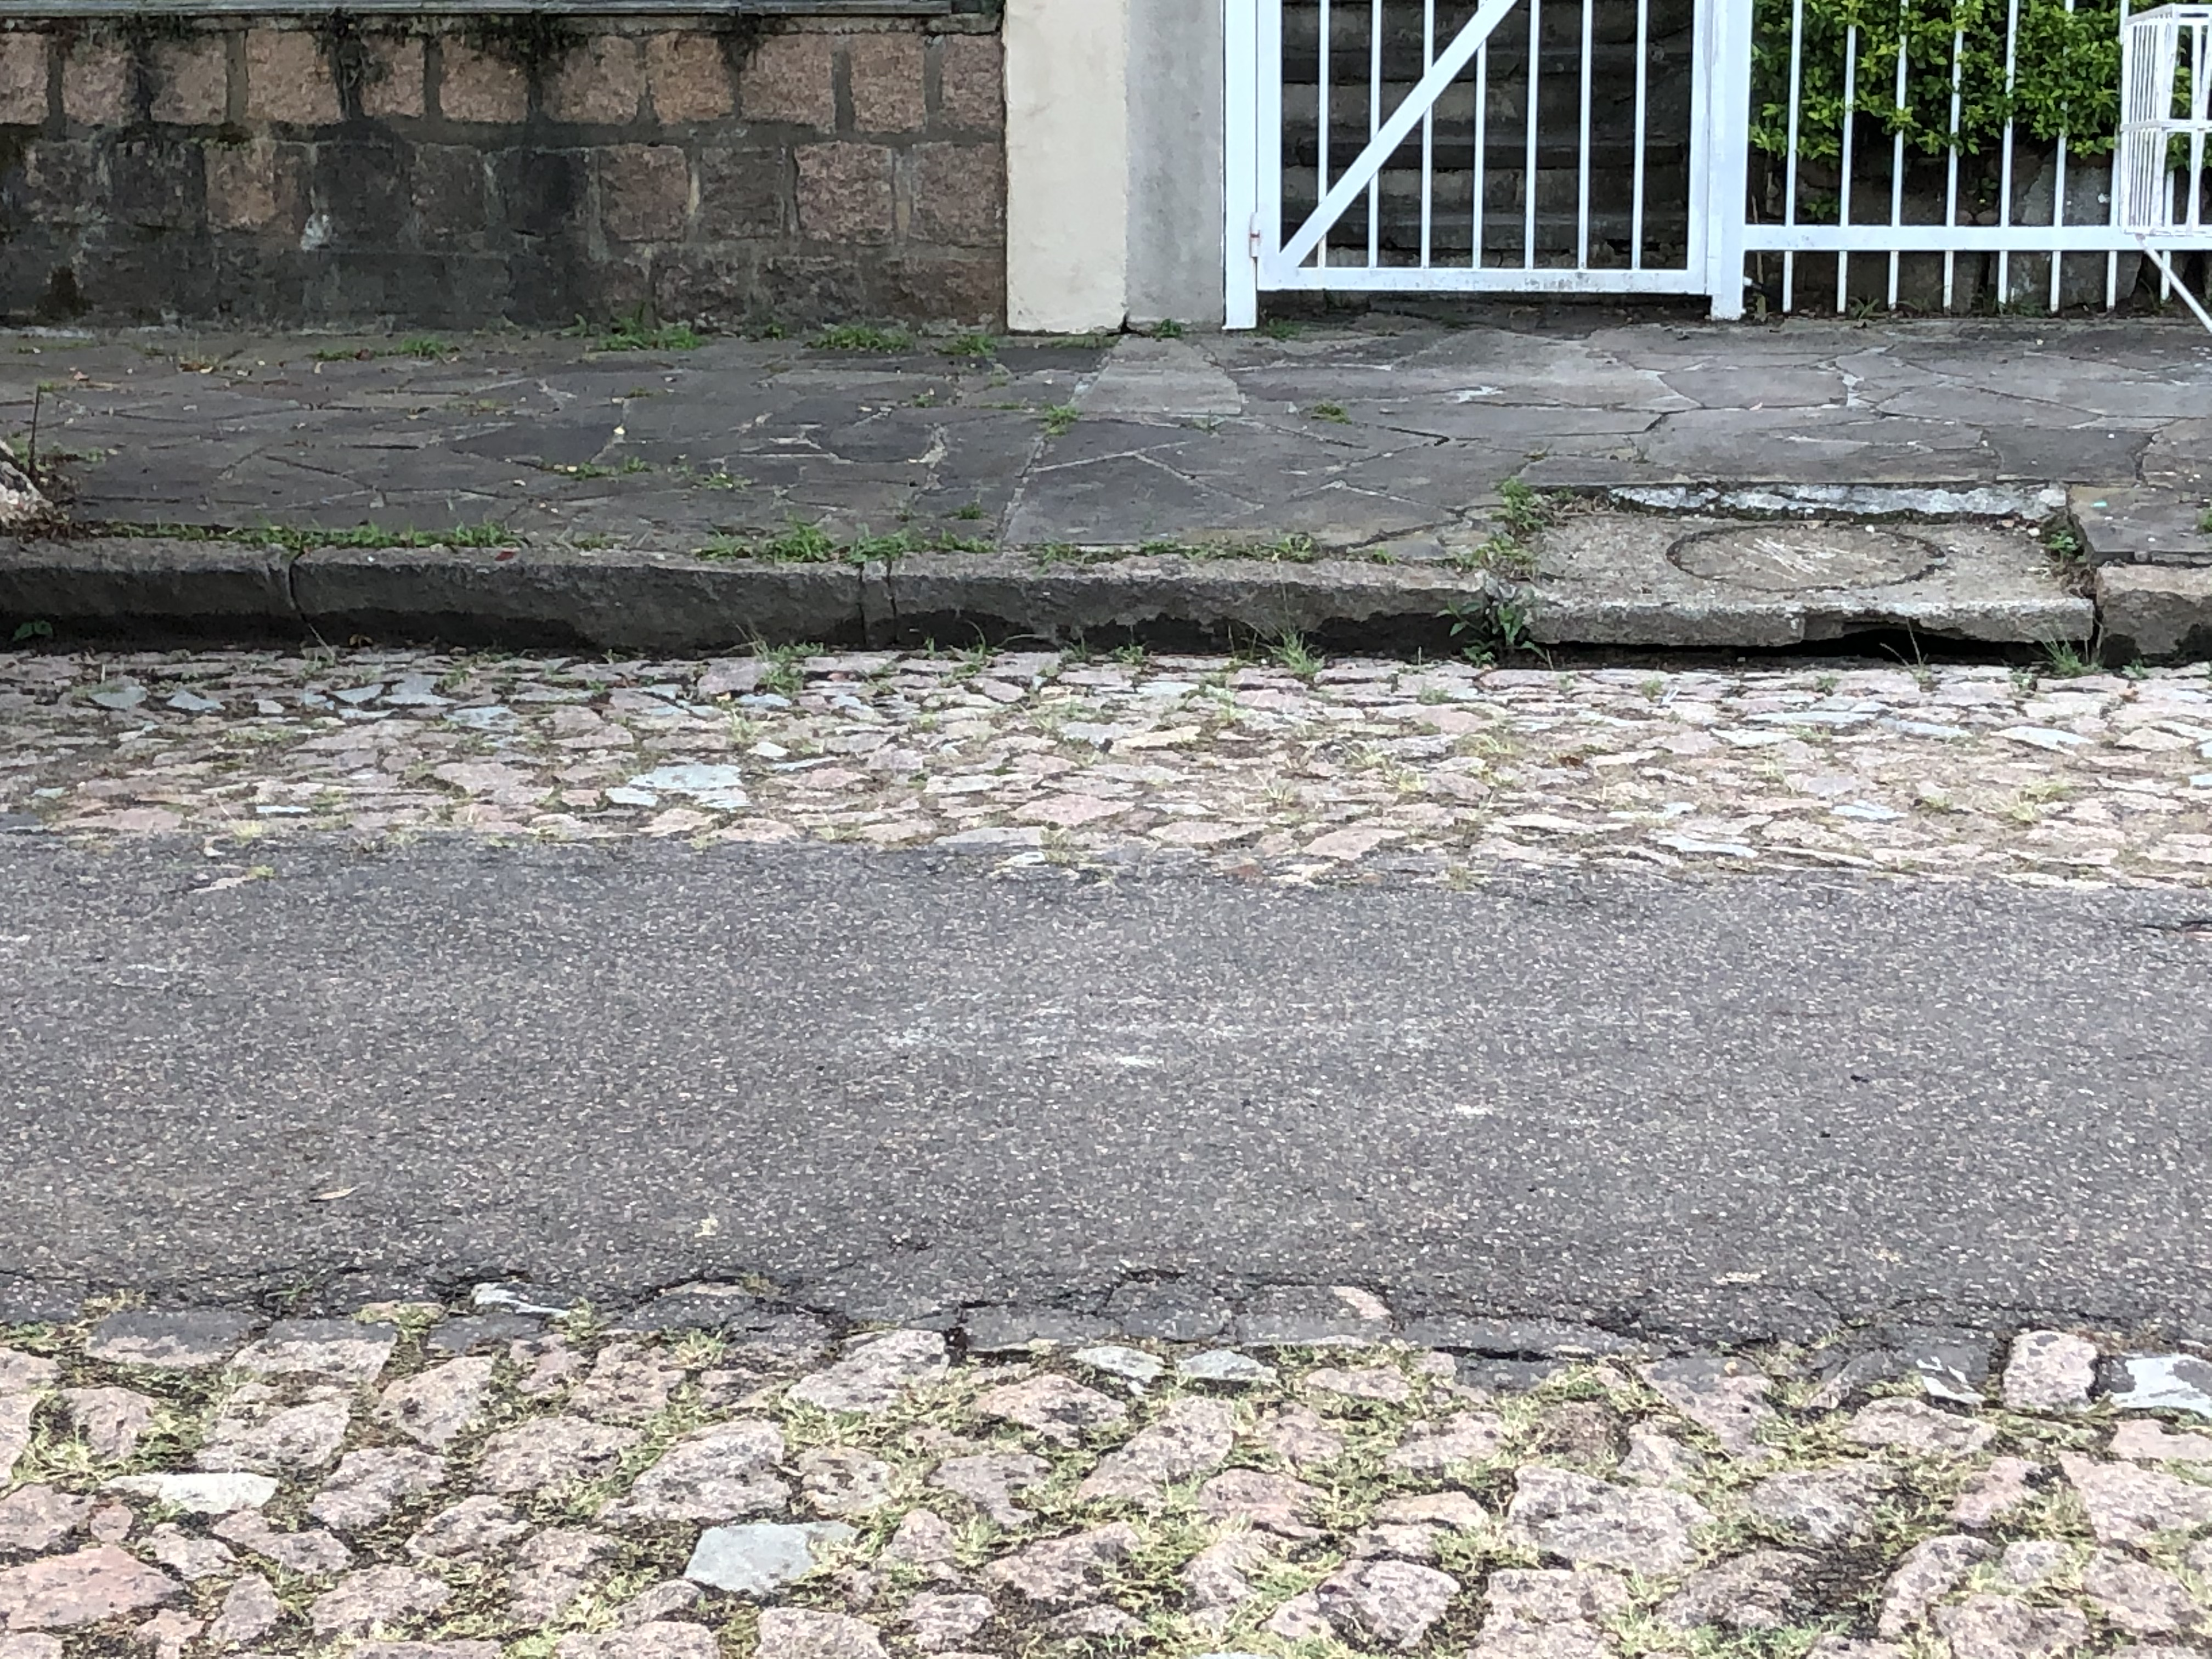vag37: (24, 270, 2212, 1023)
